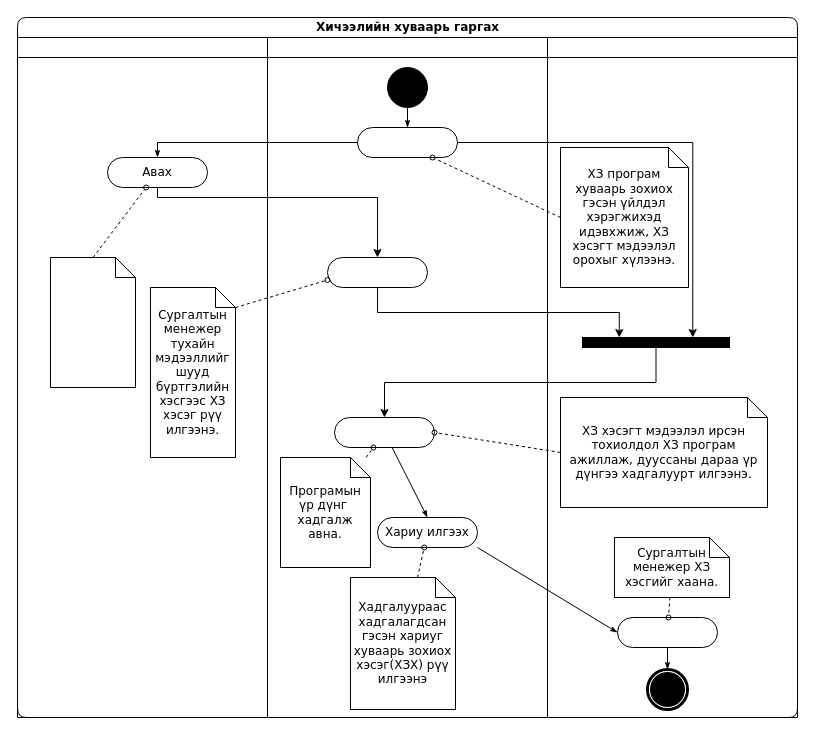
Some shapes in this 815 by 735 pixel diagram are drawn without their labels. The shapes that lost their labels are listed below. From the top down, each one's centre as x and y in pixels, then its label:
the point at 407,142: Хуваарь зохиох
the point at 377,272: Илгээх
the point at 93,322: Сургалтын менежер бүртгэлийн хэсгээс мэдээлэл авна.
the point at 384,432: Хадгалах
the point at 667,632: Хаах
